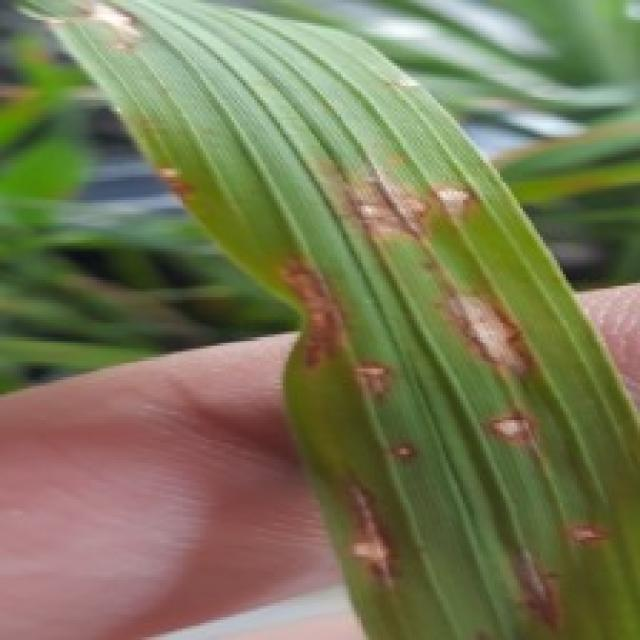Rice___Rice_Blast: (14, 0, 637, 637)
